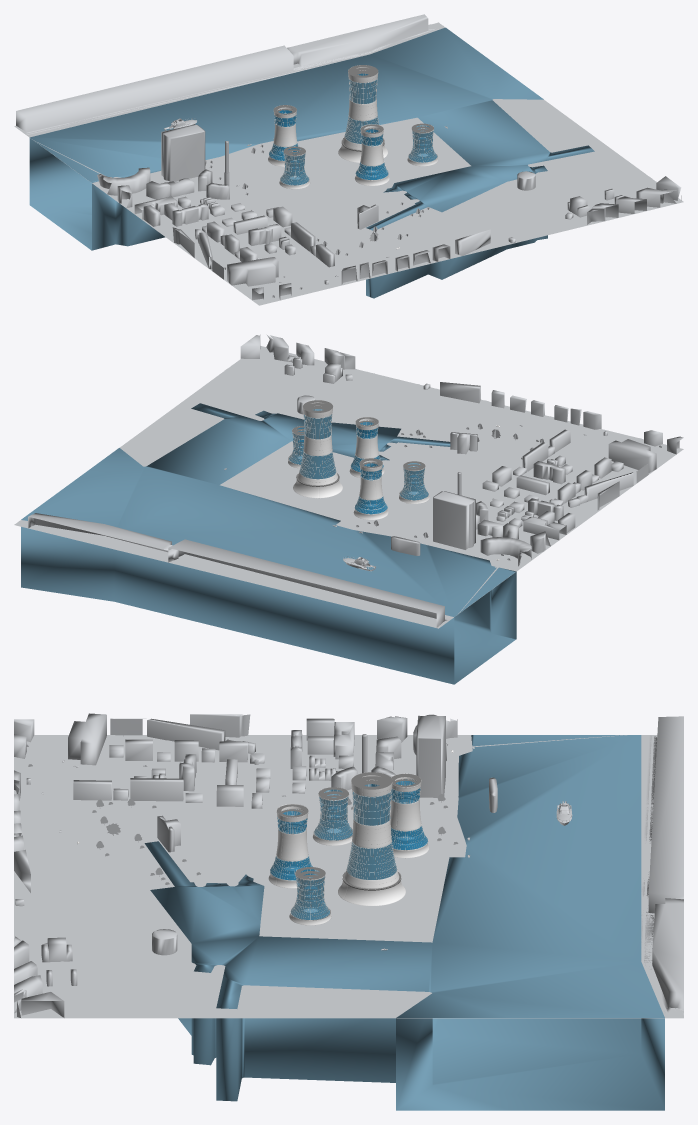
3 views of the same model, one above another, from view 1: azimuth 30°, elevation 25°; view 2: azimuth 150°, elevation 25°; view 3: azimuth 270°, elevation 25° (orthographic). The views are drawn at different scales.
Parts seen in each view (by area): view 1: context:DefaultMaterial, water, project:Default Floor, project:Glass, project:Glass walls, project:Aluminum; view 2: context:DefaultMaterial, water, project:Default Floor, project:Glass walls, project:Glass, project:Aluminum; view 3: water, context:DefaultMaterial, project:Default Floor, project:Glass, project:Glass walls, project:Aluminum.
Part boxes in pixels (bbox=[...]): context:DefaultMaterial: bbox=[14, 14, 683, 305]; water: bbox=[29, 27, 594, 298]; project:Default Floor: bbox=[270, 65, 437, 185]; project:Glass: bbox=[269, 74, 436, 184]; project:Glass walls: bbox=[268, 65, 438, 189]; project:Aluminum: bbox=[268, 70, 437, 185]; context:DefaultMaterial: bbox=[14, 334, 683, 628]; water: bbox=[21, 403, 516, 684]; project:Default Floor: bbox=[288, 400, 428, 513]; project:Glass walls: bbox=[288, 400, 429, 519]; project:Glass: bbox=[289, 409, 428, 514]; project:Aluminum: bbox=[289, 409, 428, 514]; water: bbox=[144, 735, 664, 1110]; context:DefaultMaterial: bbox=[14, 713, 683, 1018]; project:Default Floor: bbox=[271, 772, 426, 920]; project:Glass: bbox=[270, 779, 427, 919]; project:Glass walls: bbox=[268, 772, 429, 925]; project:Aluminum: bbox=[270, 779, 428, 920].
Bounding box in the file's own units: 600 × 201 × 600.
